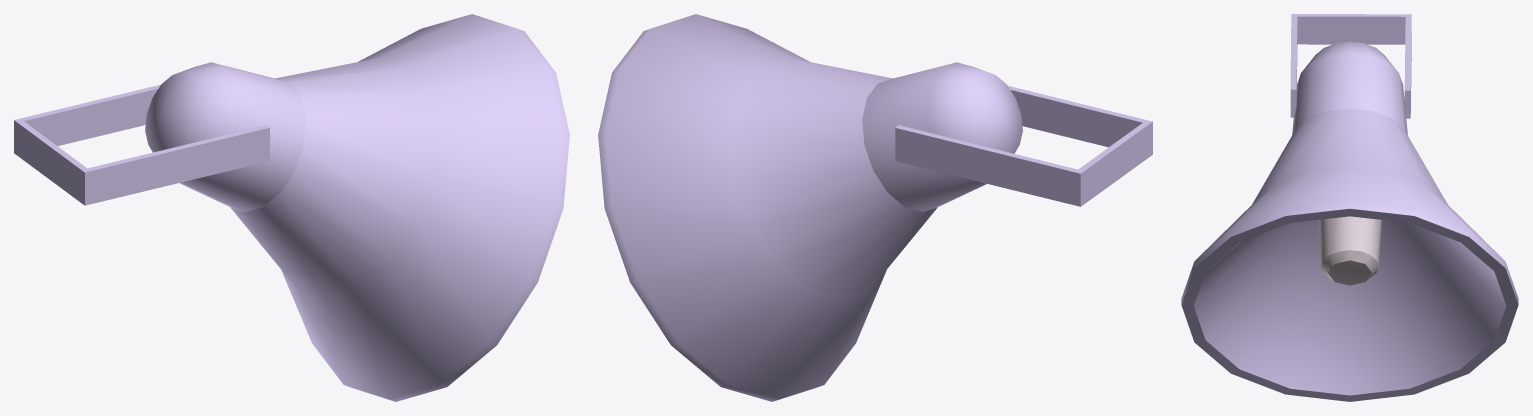
The model's file is loudspeaker1.fbx.
The picture shows the model from 3 angles, left to right: view 1: azimuth 30°, elevation 25°; view 2: azimuth 150°, elevation 25°; view 3: azimuth 270°, elevation 25°; orthographic projection. The views are drawn at different scales.
Visible parts, largest first — view 1: def; view 2: def; view 3: def.
Part boxes in pixels (<box>): def: <box>14,14,569,401</box>; def: <box>598,14,1152,401</box>; def: <box>1181,14,1518,401</box>.
Size of the model in its own units: 55.69 by 39.44 by 40.7.
